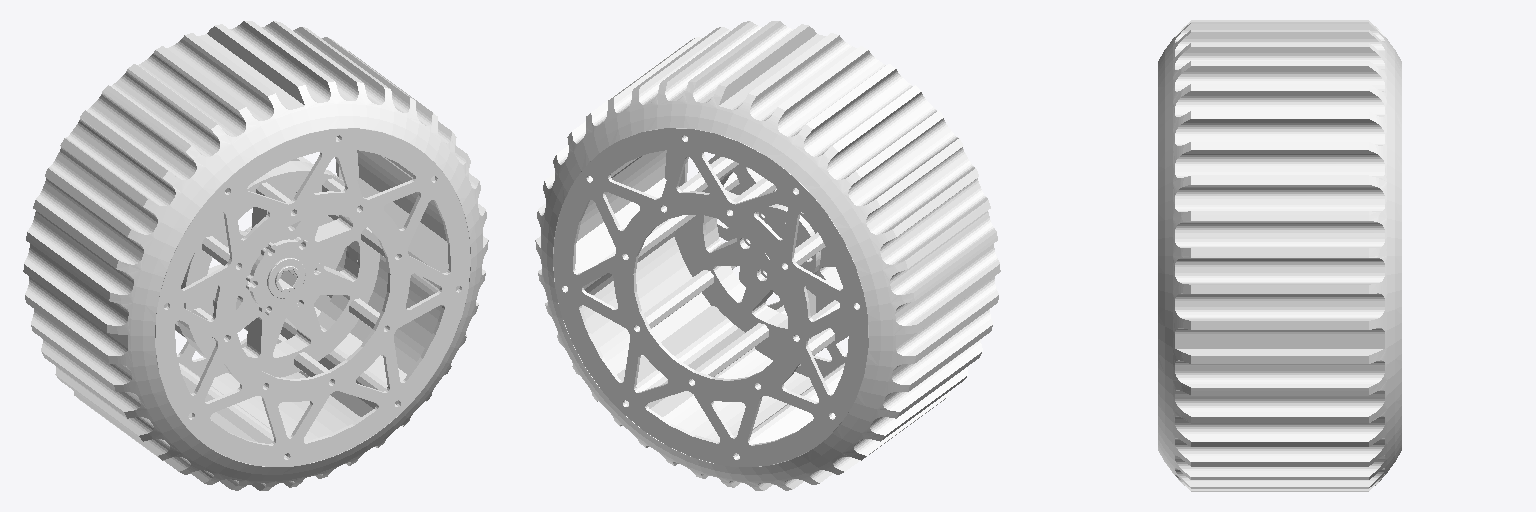
The robot description file, URDF, robot "wheel_test":
<?xml version="1.0"?>
<robot name="wheel_test">

  <link name="world_link"/>

  <joint name="wheel_joint" type="continuous">
    <parent link="world_link"/>
    <child link="base_link"/>
    <origin xyz="0 0 0" rpy="0 0 0"/>
    <axis xyz="0 1 0"/> </joint>

  <link name="base_link">
    <inertial>
      <origin xyz="1.39722660524866E-10 -2.65159526280367E-11 0.00210901865278185" rpy="0 0 0" />
      <mass value="3.01582823547934" />
      <inertia ixx="0.00905891929875062" ixy="-5.345243561681E-13" ixz="-5.01059329249382E-13" iyy="0.00905891929867343" iyz="-3.09264747852774E-13" izz="0.00996337830126816" />
    </inertial>

    <visual>
      <origin xyz="0 0 0" rpy="1.5708 0 0" /> 
      <geometry>
        <mesh filename="package://mi_rover_description/meshes/Wheel/wheel.STL" />
      </geometry>
      <material name="gris">
        <color rgba="1 1 1 1"/>
      </material>
    </visual>

    <collision>
      <origin xyz="0 0 0" rpy="1.5708 0 0" />
      <geometry>
        <mesh filename="package://mi_rover_description/meshes/Wheel/wheel.STL" />
      </geometry>
    </collision>
  </link>

</robot>

--- What the picture shows (computed from the rendered views, not written in the file) ---
Views: 3 orthographic renders of the robot side by side, from view 1: azimuth 30°, elevation 25°; view 2: azimuth 150°, elevation 25°; view 3: azimuth 270°, elevation 25°.
Model wheel_test with 2 links and 1 joints (1 continuous), rooted at world_link, posed every joint at zero.
Visible links, largest first — view 1: base_link; view 2: base_link; view 3: base_link.
Link boxes in pixels (x1,y1,x2,y2): base_link: [23, 21, 488, 490]; base_link: [535, 21, 1000, 490]; base_link: [1158, 20, 1401, 491].
Bounding box of the posed robot: 0.29 × 0.15 × 0.29 m (x, y, z).
1 mesh visuals loaded from 1 distinct referenced files (1 binary STL).
